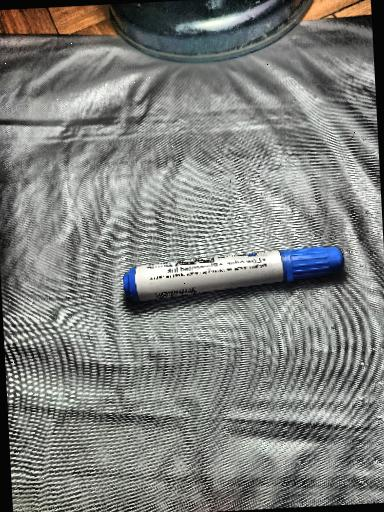marcador azul: (123, 246, 344, 301)
